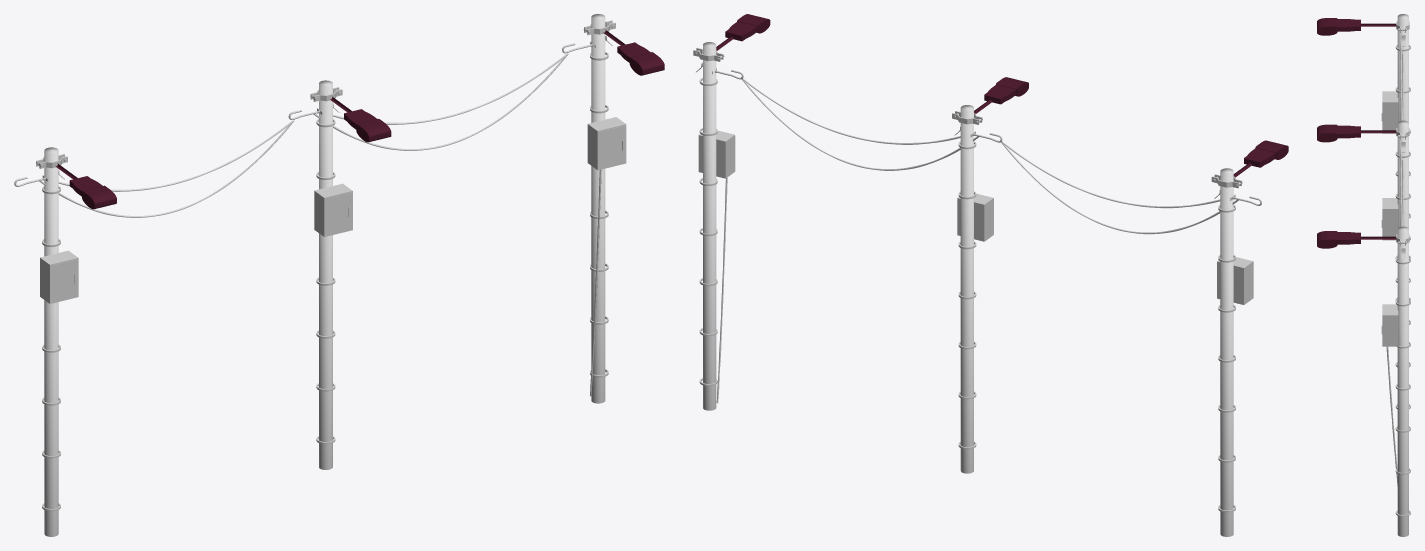
File: Street_light.fbx
The picture shows the model from 3 angles, left to right: view 1: azimuth 30°, elevation 25°; view 2: azimuth 150°, elevation 25°; view 3: azimuth 270°, elevation 25°; orthographic projection. The views are drawn at different scales.
Parts seen in each view (by area): view 1: Circle.008, Circle.015, Circle.005, Cube.270, Cube.031, Cube.035, Cube.271, Cube.030, Cube.034; view 2: Circle.008, Circle.015, Circle.005, Cube.035, Cube.270, Cube.031, Cube.271, Cube.034, Cube.030; view 3: Circle.015, Circle.008, Circle.005, Cube.030, Cube.034, Cube.271, Cube.270, Cube.035, Cube.031, Circle.001, Catenary, Circle.006 (+5 smaller).
Part boxes in pixels (x1,y1,x2,y2): Circle.008: [44, 147, 58, 536]; Circle.015: [591, 14, 605, 403]; Circle.005: [319, 80, 332, 469]; Cube.270: [587, 117, 626, 170]; Cube.031: [314, 183, 352, 236]; Cube.035: [40, 250, 78, 303]; Cube.271: [603, 30, 664, 75]; Cube.030: [330, 96, 391, 142]; Cube.034: [55, 163, 116, 209]; Circle.008: [1220, 168, 1233, 536]; Circle.015: [703, 42, 716, 410]; Circle.005: [960, 105, 973, 473]; Cube.035: [1217, 257, 1253, 304]; Cube.270: [698, 130, 735, 178]; Cube.031: [957, 193, 993, 241]; Cube.271: [716, 14, 770, 50]; Cube.034: [1233, 140, 1288, 177]; Cube.030: [974, 77, 1028, 113]; Circle.015: [1397, 226, 1408, 536]; Circle.008: [1397, 14, 1408, 122]; Circle.005: [1397, 120, 1408, 227]; Cube.030: [1317, 124, 1396, 142]; Cube.034: [1317, 18, 1396, 35]; Cube.271: [1317, 231, 1396, 248]; Cube.270: [1381, 304, 1398, 346]; Cube.035: [1381, 91, 1398, 133]; Cube.031: [1381, 198, 1398, 240]; Circle.001: [1395, 258, 1410, 516]; Catenary: [1386, 346, 1397, 485]; Circle.006: [1395, 151, 1410, 409].
Bounding box in the file's own units: 1109 × 678 × 189.
